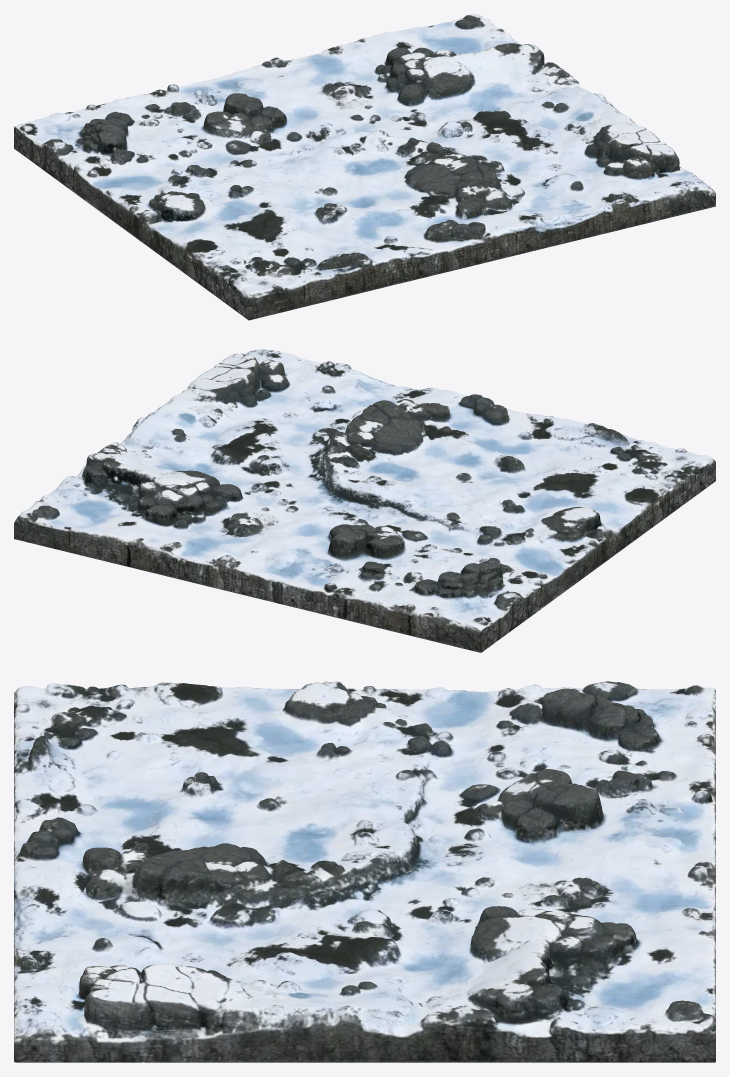
The model's file is snowy-terrain-transformed.glb.
The picture shows the model from 3 angles, top to bottom: view 1: azimuth 30°, elevation 25°; view 2: azimuth 150°, elevation 25°; view 3: azimuth 270°, elevation 25°; orthographic projection. The views are drawn at different scales.
Bounding box in the file's own units: 1.9 × 0.166 × 1.65.
1 material, 1 textured.
